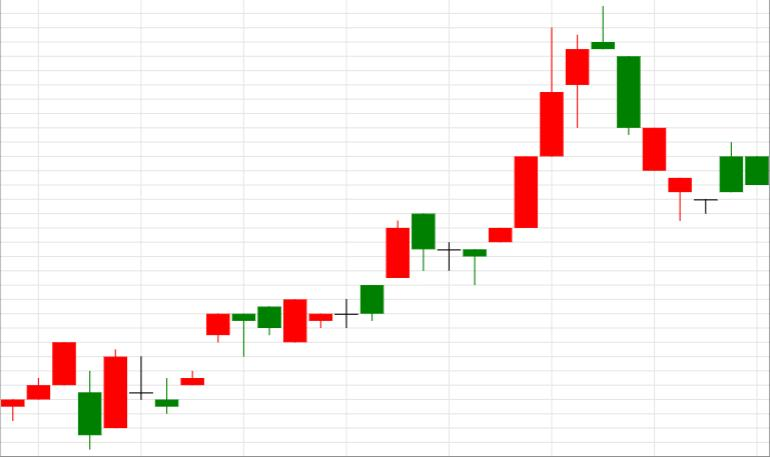evening_star_fall: (463, 7, 641, 284)
